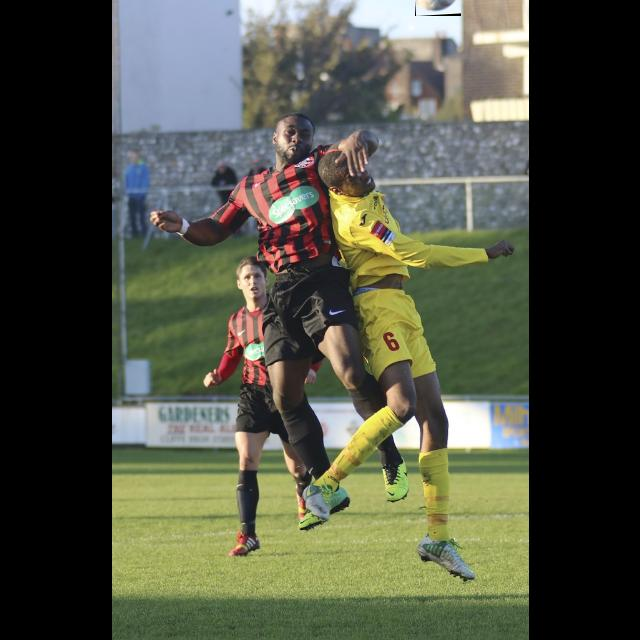Football: (415, 0, 461, 16)
